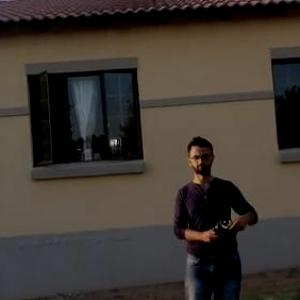follow: (167, 124, 266, 299)
